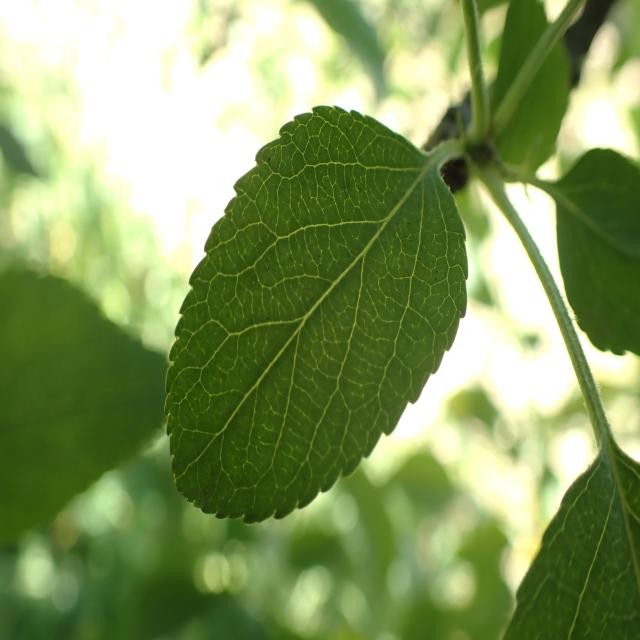healthy: (164, 102, 468, 526), (0, 264, 169, 549), (499, 439, 640, 640), (549, 146, 640, 358)
